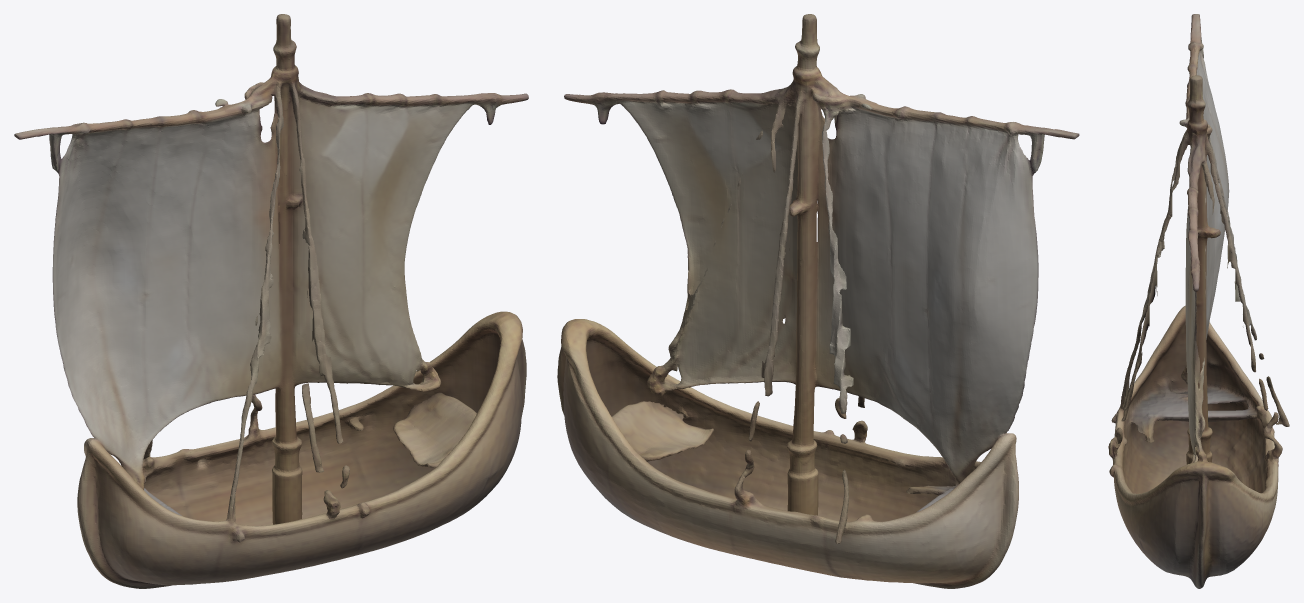
The picture shows the model from 3 angles, left to right: view 1: azimuth 30°, elevation 25°; view 2: azimuth 150°, elevation 25°; view 3: azimuth 270°, elevation 25°; orthographic projection. The views are drawn at different scales.
Visible parts, largest first — view 1: world; view 2: world; view 3: world.
Boxes of the visible parts, x1=… form: world: x1=14, y1=14, x2=528, y2=588; world: x1=557, y1=14, x2=1079, y2=588; world: x1=1108, y1=14, x2=1289, y2=588.
Bounding box in the file's own units: 0.9904 × 0.9985 × 0.3674.
